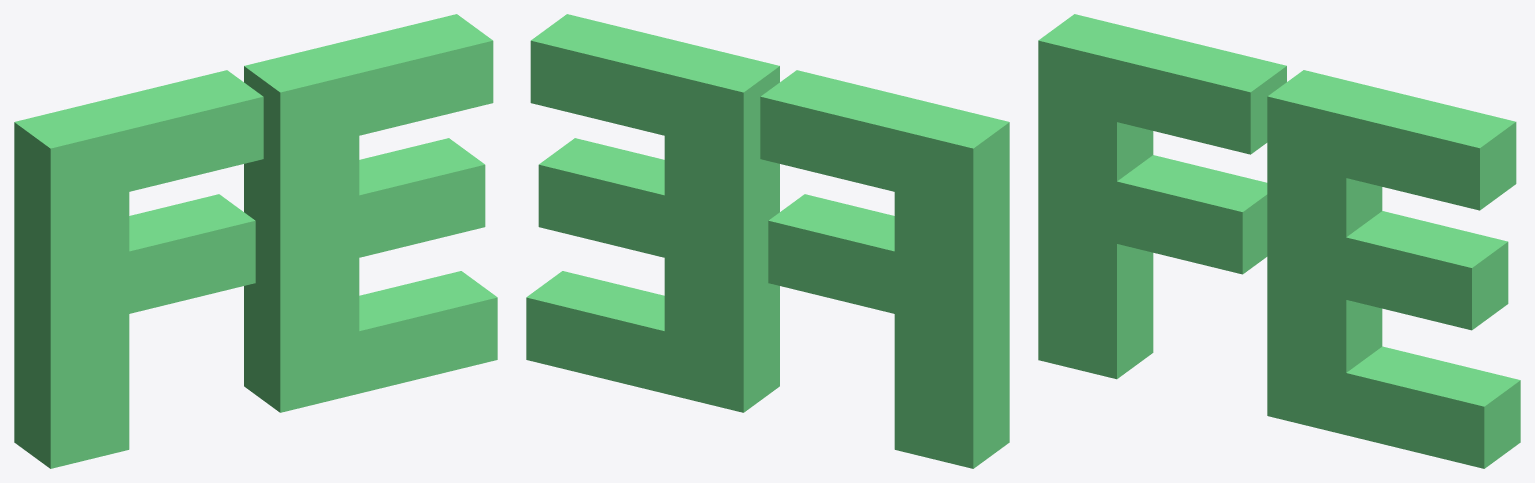
File: suku_besar_fe.glb
3 views of the same model, side by side, from view 1: azimuth 30°, elevation 25°; view 2: azimuth 150°, elevation 25°; view 3: azimuth 330°, elevation 25° (orthographic).
Parts seen in each view (by area): view 1: geometry_0; view 2: geometry_0; view 3: geometry_0.
Boxes of the visible parts, box(x1,y1,x2,y2) form: geometry_0: box(14, 14, 497, 468); geometry_0: box(526, 14, 1009, 468); geometry_0: box(1038, 14, 1520, 468).
Size of the model in its own units: 10.65 by 7.29 by 1.5.
